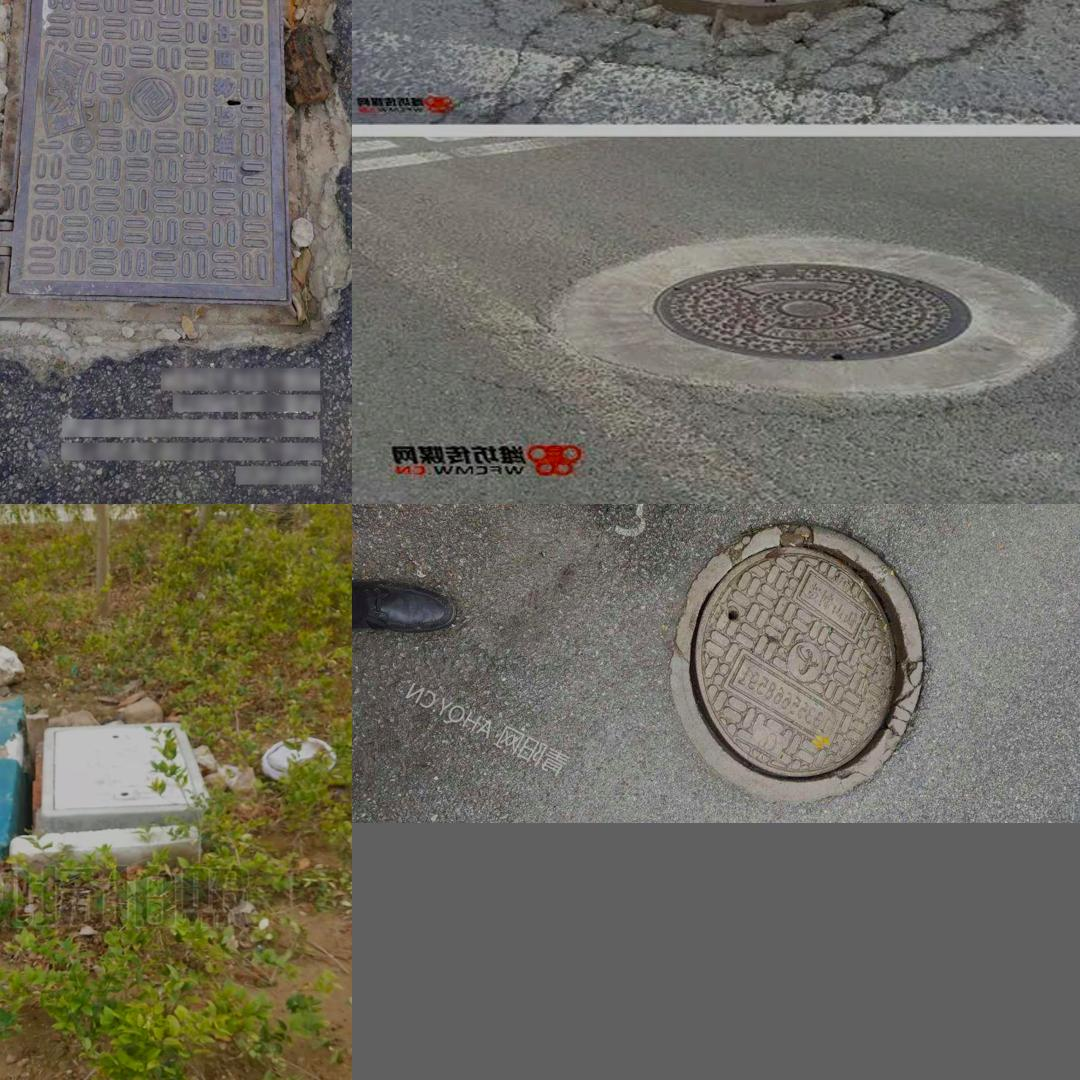circle: (0, 0, 330, 350), (653, 521, 958, 800), (465, 0, 1048, 74), (6, 712, 222, 856)
